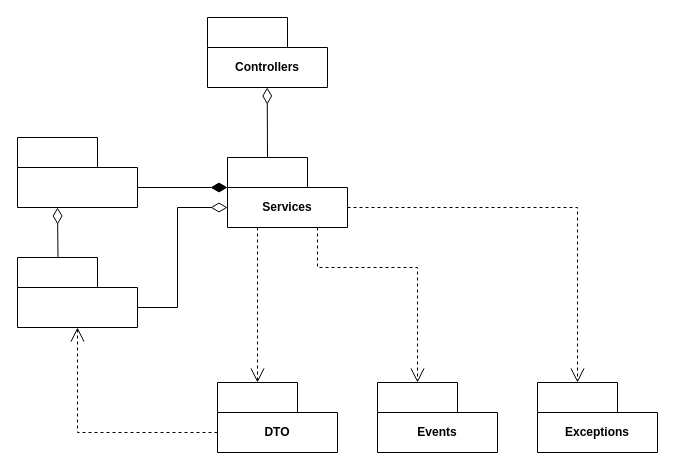
This 675x470 diagram has some shape labels left out. The centre of each missing label's shape, as x and y in pixels:
"Models" goes at point 77,292.
"Repositories" goes at point 77,172.
